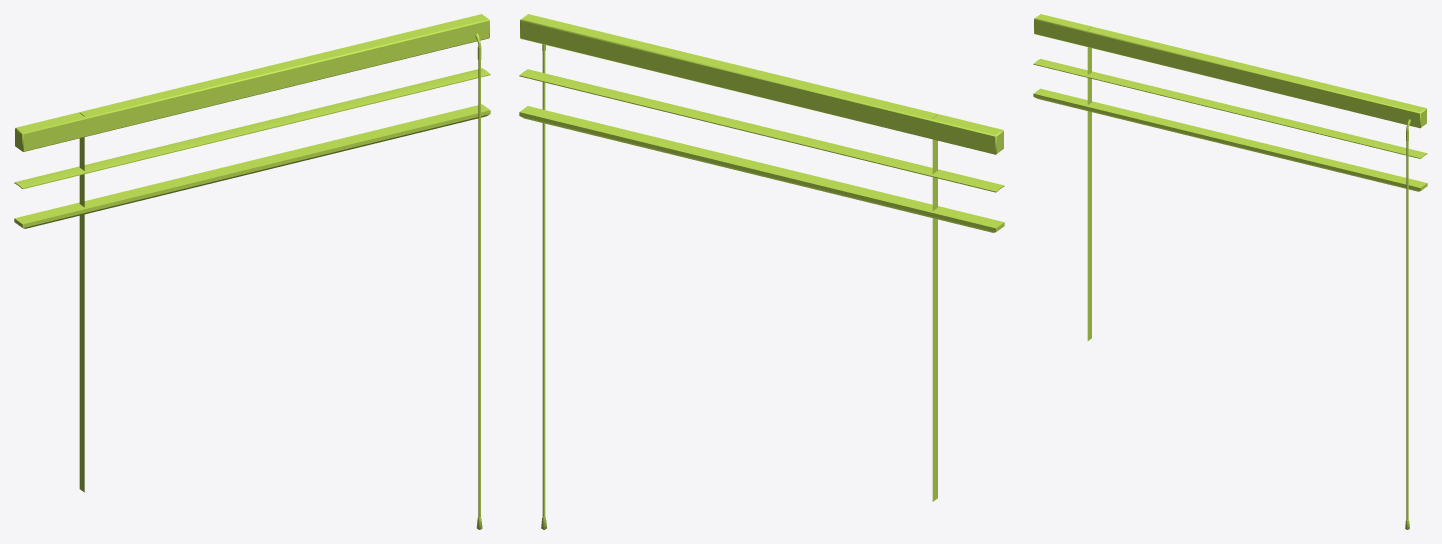
Rendered from Blinds02_.FBX.
3 renders of one model, left to right at view 1: azimuth 30°, elevation 25°; view 2: azimuth 150°, elevation 25°; view 3: azimuth 330°, elevation 25°, orthographic. The views are drawn at different scales.
Parts seen in each view (by area): view 1: Jalousie_top, Jalousie_bottom, Jalousie_middle, Jalousie_rods; view 2: Jalousie_top, Jalousie_bottom, Jalousie_middle, Jalousie_rods; view 3: Jalousie_top, Jalousie_bottom, Jalousie_middle, Jalousie_rods.
Boxes of the visible parts, x1=… form: Jalousie_top: x1=15, y1=14, x2=489, y2=529; Jalousie_bottom: x1=14, y1=104, x2=490, y2=228; Jalousie_middle: x1=14, y1=68, x2=490, y2=188; Jalousie_rods: x1=79, y1=113, x2=84, y2=492; Jalousie_top: x1=520, y1=14, x2=1003, y2=529; Jalousie_bottom: x1=519, y1=106, x2=1004, y2=232; Jalousie_middle: x1=519, y1=69, x2=1004, y2=192; Jalousie_rods: x1=932, y1=114, x2=937, y2=501; Jalousie_top: x1=1034, y1=14, x2=1426, y2=529; Jalousie_bottom: x1=1033, y1=88, x2=1427, y2=191; Jalousie_middle: x1=1033, y1=59, x2=1427, y2=158; Jalousie_rods: x1=1087, y1=27, x2=1091, y2=340.
Size of the model in its own units: 130 by 134 by 5.91.
